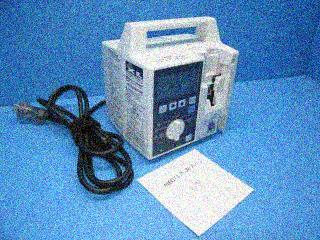plumxl1: (104, 18, 233, 160)
